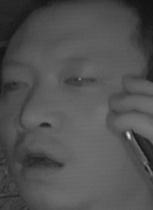eye: (62, 69, 98, 90), (3, 75, 30, 93)
mouth: (17, 142, 69, 181)
